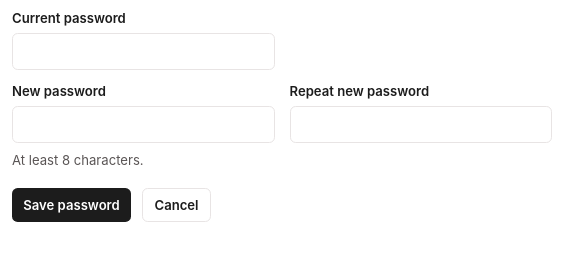
Test case: ChangePasswordForm › should say the current password is wrong when the server rejects it
This screenshot has width=573, height=277.
Type "sons-of-ares" into the password field labelled "Current password". click: (143, 51)
box: [12,33,274,70]
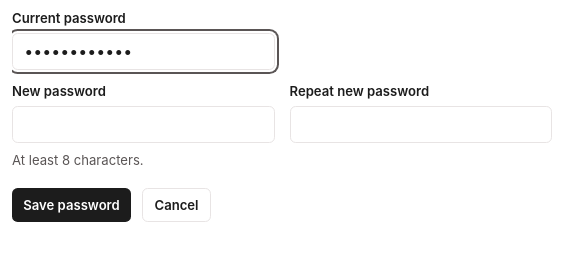
Type "break-the-chains" into the password field labelled "New password". click: (143, 125)
box: [12,106,274,143]
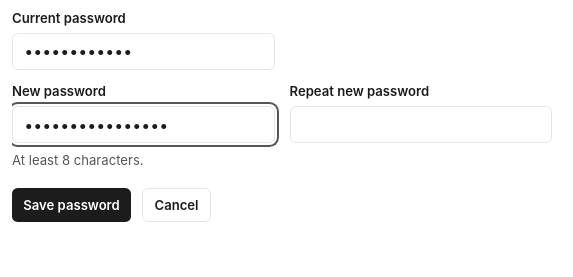
Type "break-the-chains" into the password field labelled "Repeat new password". click: (421, 125)
box: [290,106,552,143]
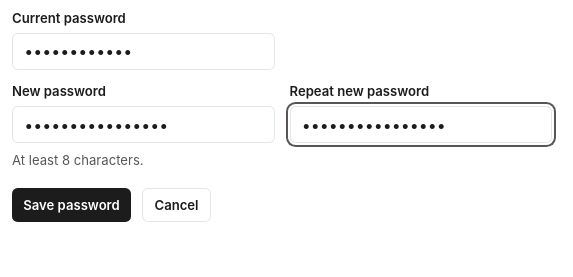
Click the button "Save password". click: (72, 205)
box: [12,188,131,222]
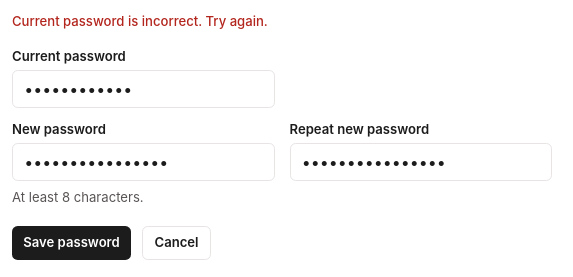
Check: the text "Current password is incorrect. Try again." is shown, box [12,13,268,29]
